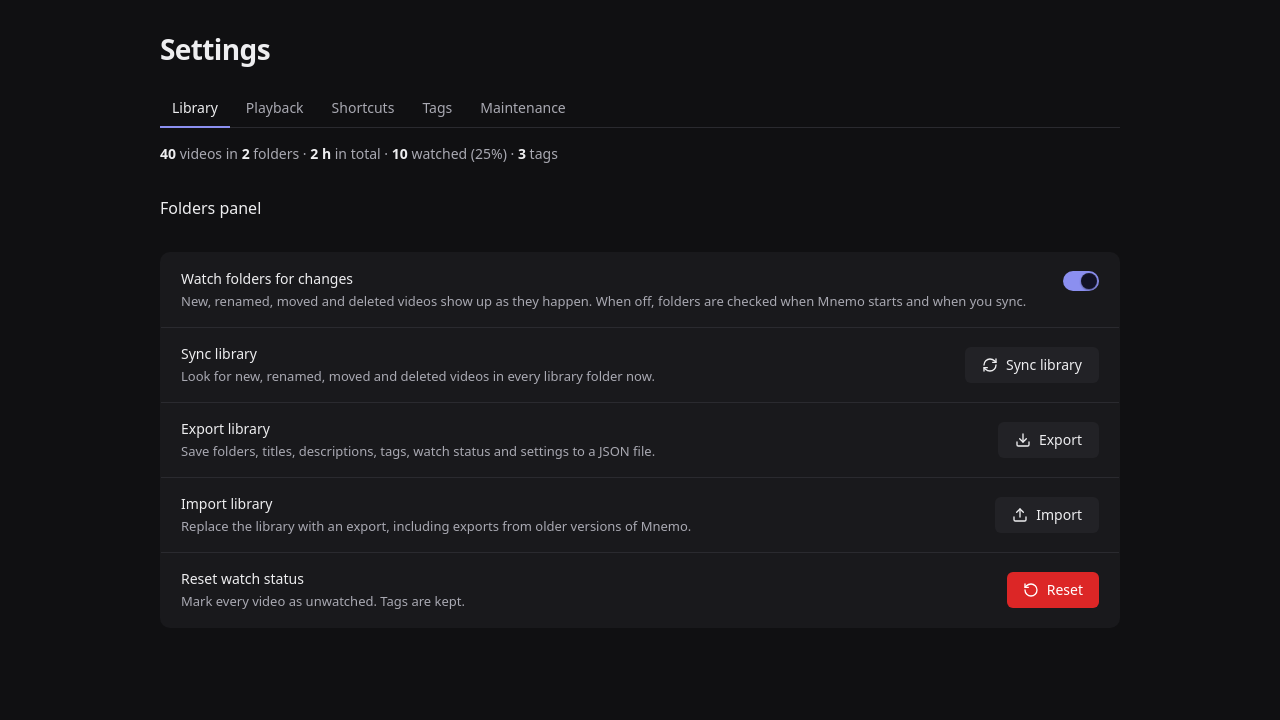
Scenario: SettingsPage › resets the watch status after confirmation, keeping tags
This screenshot has width=1280, height=720.
Click the button "Reset": x=1053, y=590 [1007,572,1099,608]
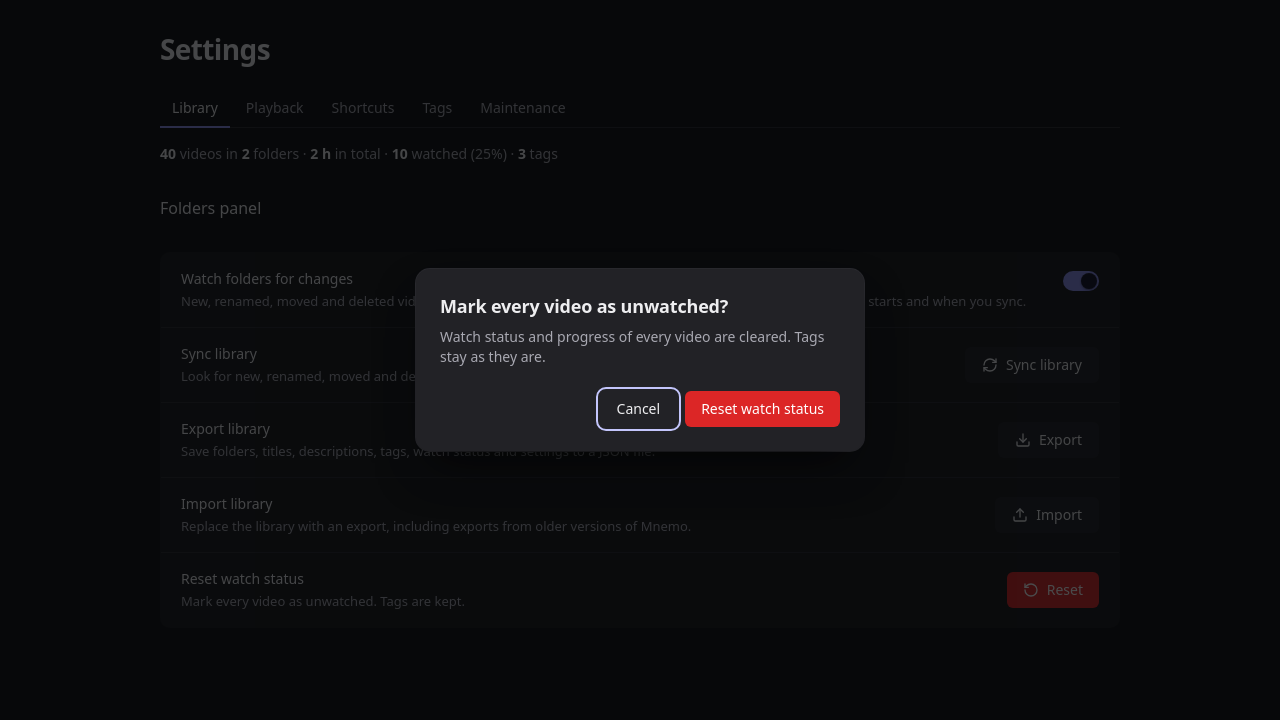
Click the button "Reset watch status": x=763, y=409 [685,391,840,427]
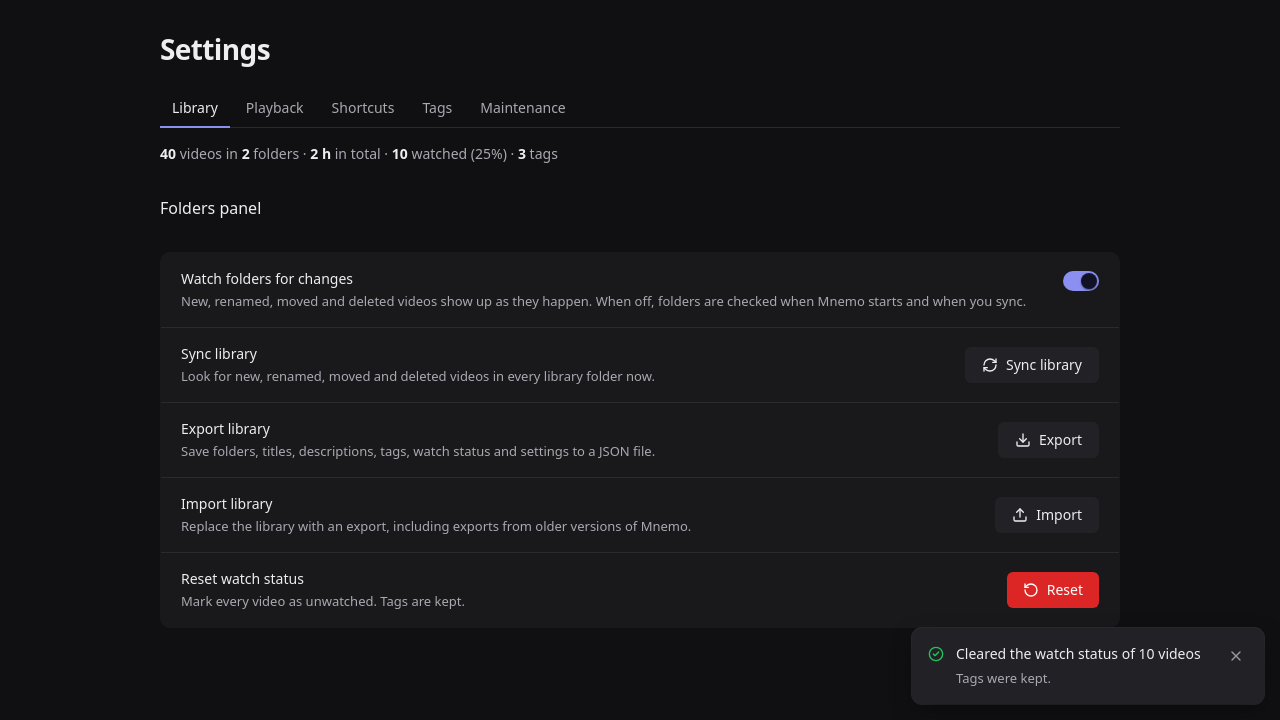
Check: the text "Cleared the watch status of 10 videos" is shown, box [956,644,1212,664]
